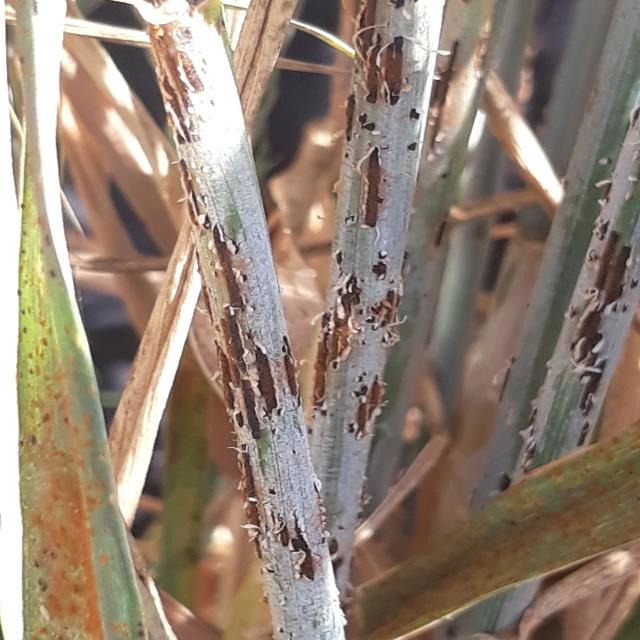black_stem_rust: (116, 6, 455, 640), (465, 0, 640, 640), (0, 8, 167, 640)
